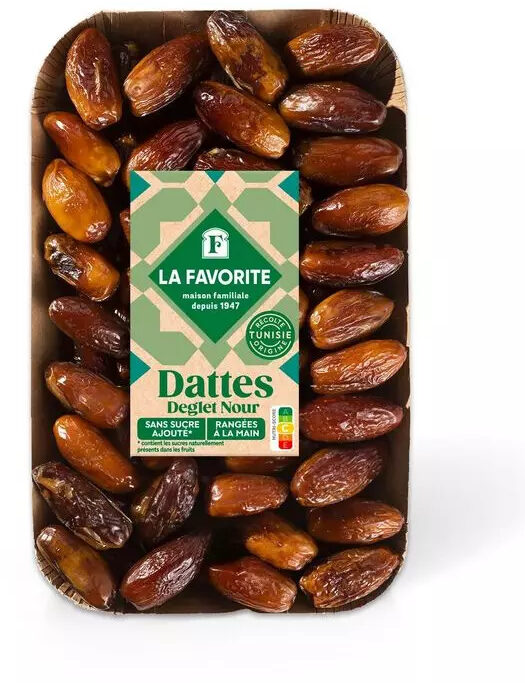Dattes Deglet Nour de Tunisie: (26, 34, 499, 649)
